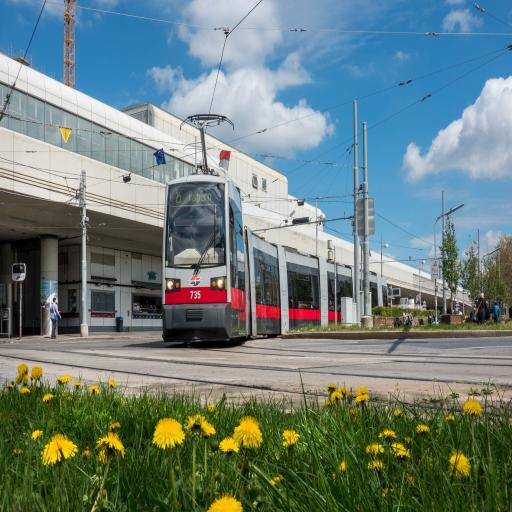ULF: (164, 168, 388, 351)
